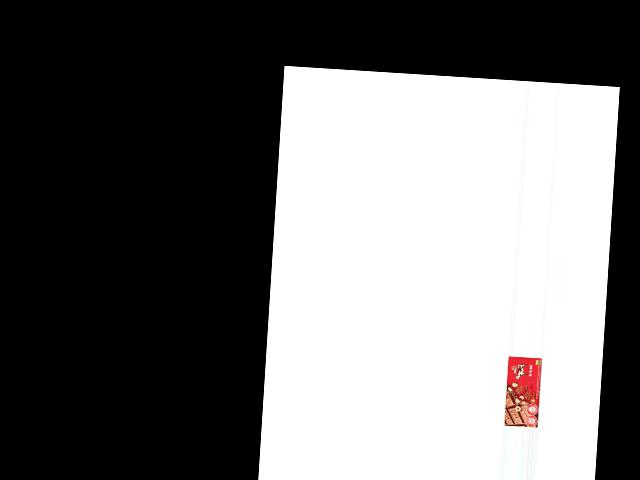chocolate: (504, 356, 542, 427)
